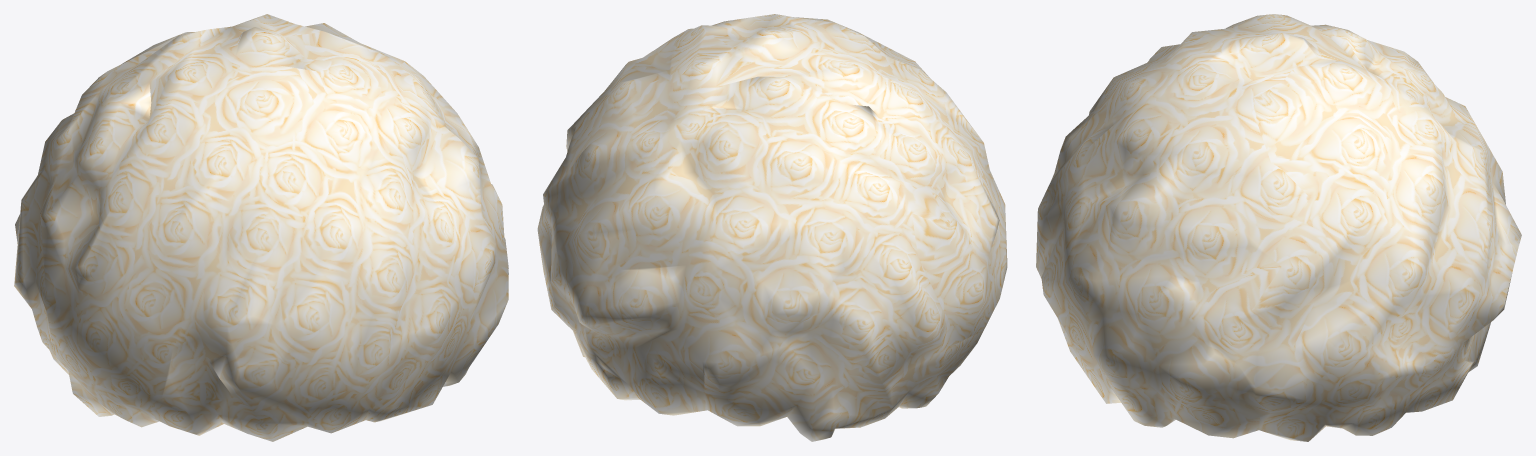
The model's file is DecorFlowerRoses01_2.FBX.
3 views of the same model, side by side, from view 1: azimuth 30°, elevation 25°; view 2: azimuth 150°, elevation 25°; view 3: azimuth 270°, elevation 25° (orthographic). The views are drawn at different scales.
Parts seen in each view (by area): view 1: DecorFlowerRoses01_2; view 2: DecorFlowerRoses01_2; view 3: DecorFlowerRoses01_2.
Part boxes in pixels (bbox=[...]): DecorFlowerRoses01_2: bbox=[14, 14, 508, 441]; DecorFlowerRoses01_2: bbox=[537, 14, 1007, 441]; DecorFlowerRoses01_2: bbox=[1036, 14, 1521, 441].
Size of what is drawn, in the model's own units: 0.4893 by 0.3751 by 0.4783.
